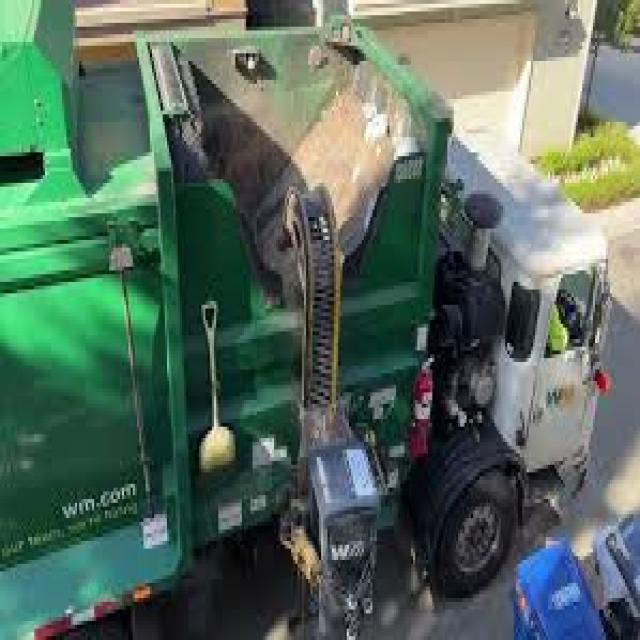truck: (1, 22, 613, 599)
